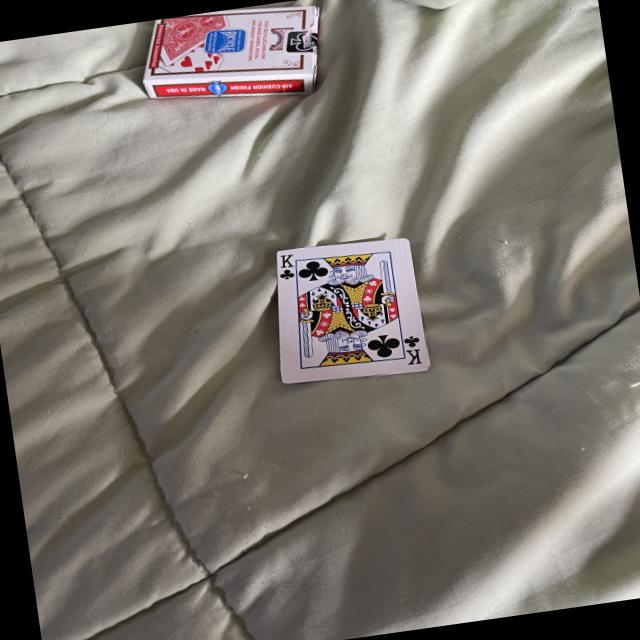King of clubs: (280, 240, 429, 384)
